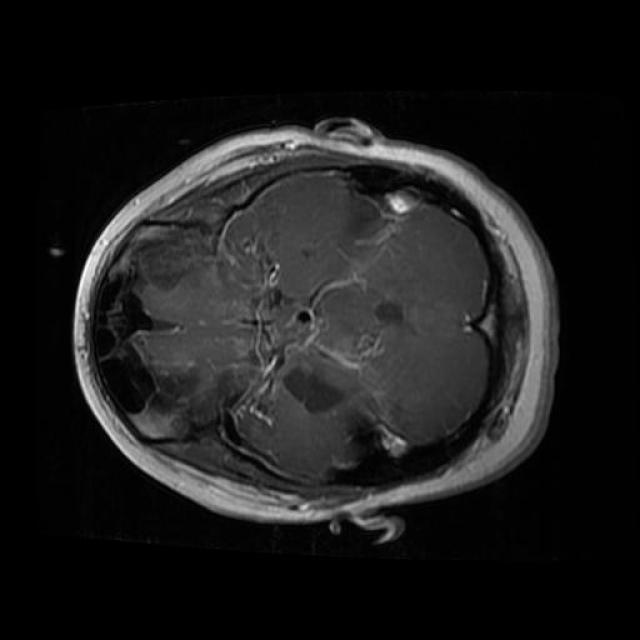Glioma: (85, 228, 174, 418)
